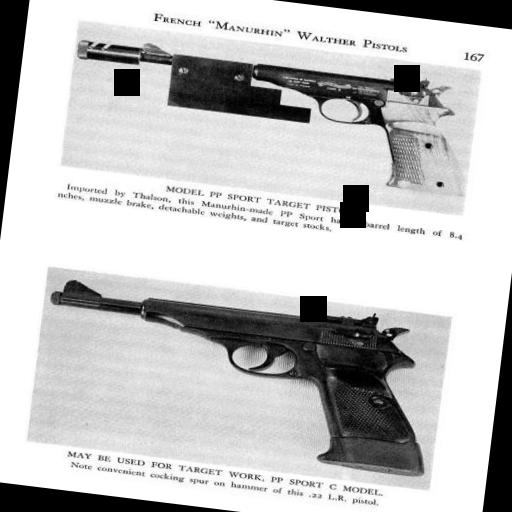Handgun: (30, 272, 450, 484), (64, 30, 476, 200)
